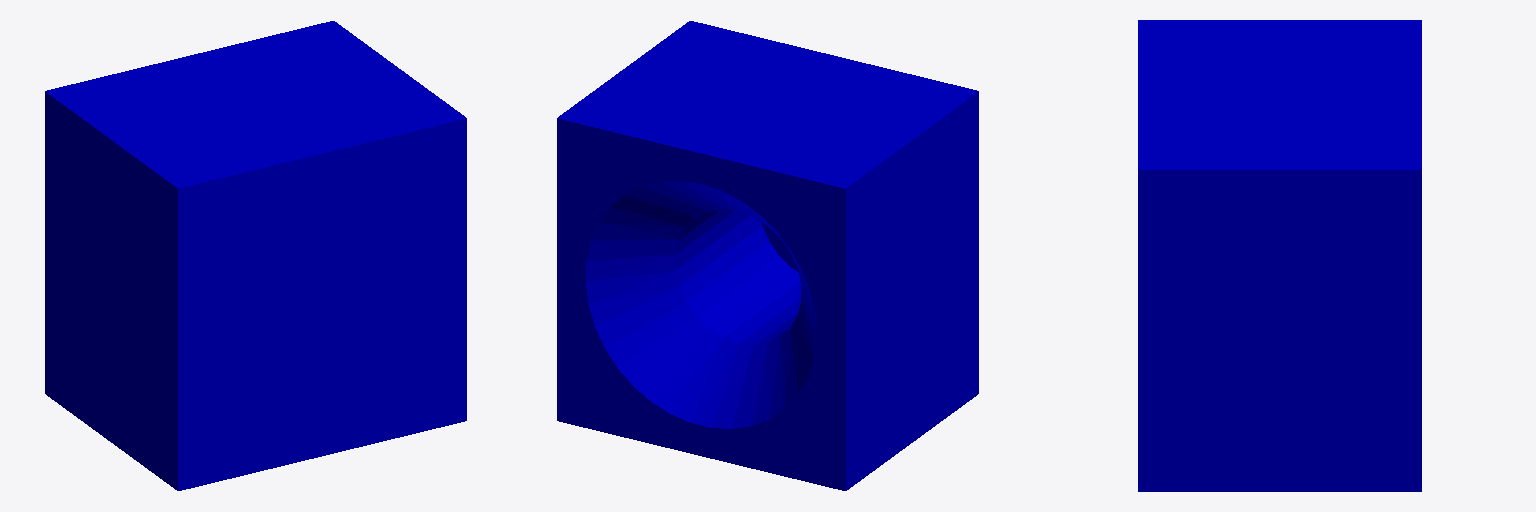
The robot description file, URDF, robot "receiver":
<?xml version="1.0" ?>
<robot name="receiver">
  <link name="baseLink">
    <contact>
      <lateral_friction value="0.2"/>
      <rolling_friction value="0."/>
	<restitution value="0" />
    </contact>
    <inertial>
      <origin rpy="0 0 0" xyz="0 0 0"/>
       <mass value="0."/>
       <inertia ixx="1.550E-05" ixy="0" ixz="0" iyy="1.550E-05" iyz="0" izz="3.060E-05"/>
    </inertial>
    <visual>
      <origin rpy="0 0 0" xyz="0 0 0"/>
      <geometry>
		<mesh filename="./socket_3d4.obj" scale="0.1 0.1 0.1"/>
      </geometry>
       <material name="green">
        <color rgba="0 0 0.8 0.5"/>
      </material>
    </visual>
    <collision concave="yes">
      <origin rpy="0 0 0" xyz="0 0 0"/>
      <geometry>
	 	<mesh filename="./socket_3d4.obj" scale="0.1 0.1 0.1"/>
      </geometry>
    </collision>
  </link>
</robot>

--- Render facts (derived) ---
Views: 3 orthographic renders of the robot side by side, from view 1: azimuth 30°, elevation 25°; view 2: azimuth 150°, elevation 25°; view 3: azimuth 270°, elevation 25°.
Model receiver with 1 links and 0 joints (none), rooted at baseLink, posed all joints at 0.
Links seen in each view (by area): view 1: baseLink; view 2: baseLink; view 3: baseLink.
Boxes of the visible links, bbox=[...] form: baseLink: bbox=[45, 21, 466, 490]; baseLink: bbox=[557, 21, 978, 490]; baseLink: bbox=[1138, 20, 1421, 491].
Size in the robot's own frame: 1 by 0.8 by 1 metres.
1 mesh visuals loaded from 1 distinct referenced files (1 OBJ).